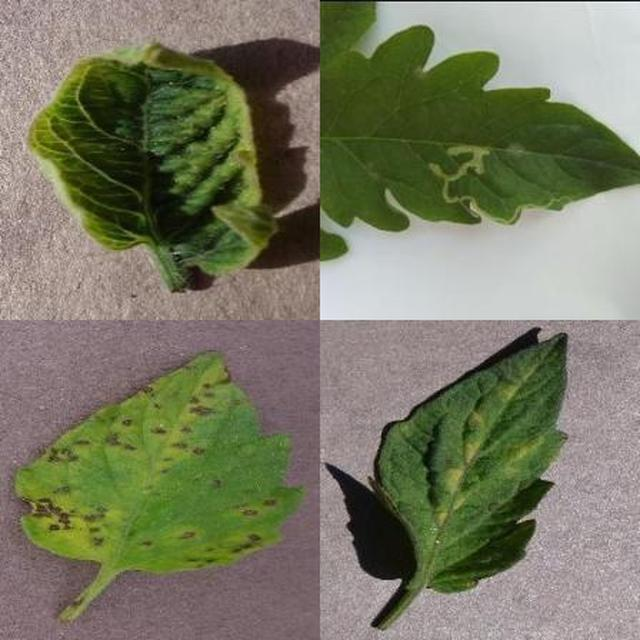Yellow Leaf Curl Virus: (216, 184, 640, 640)
